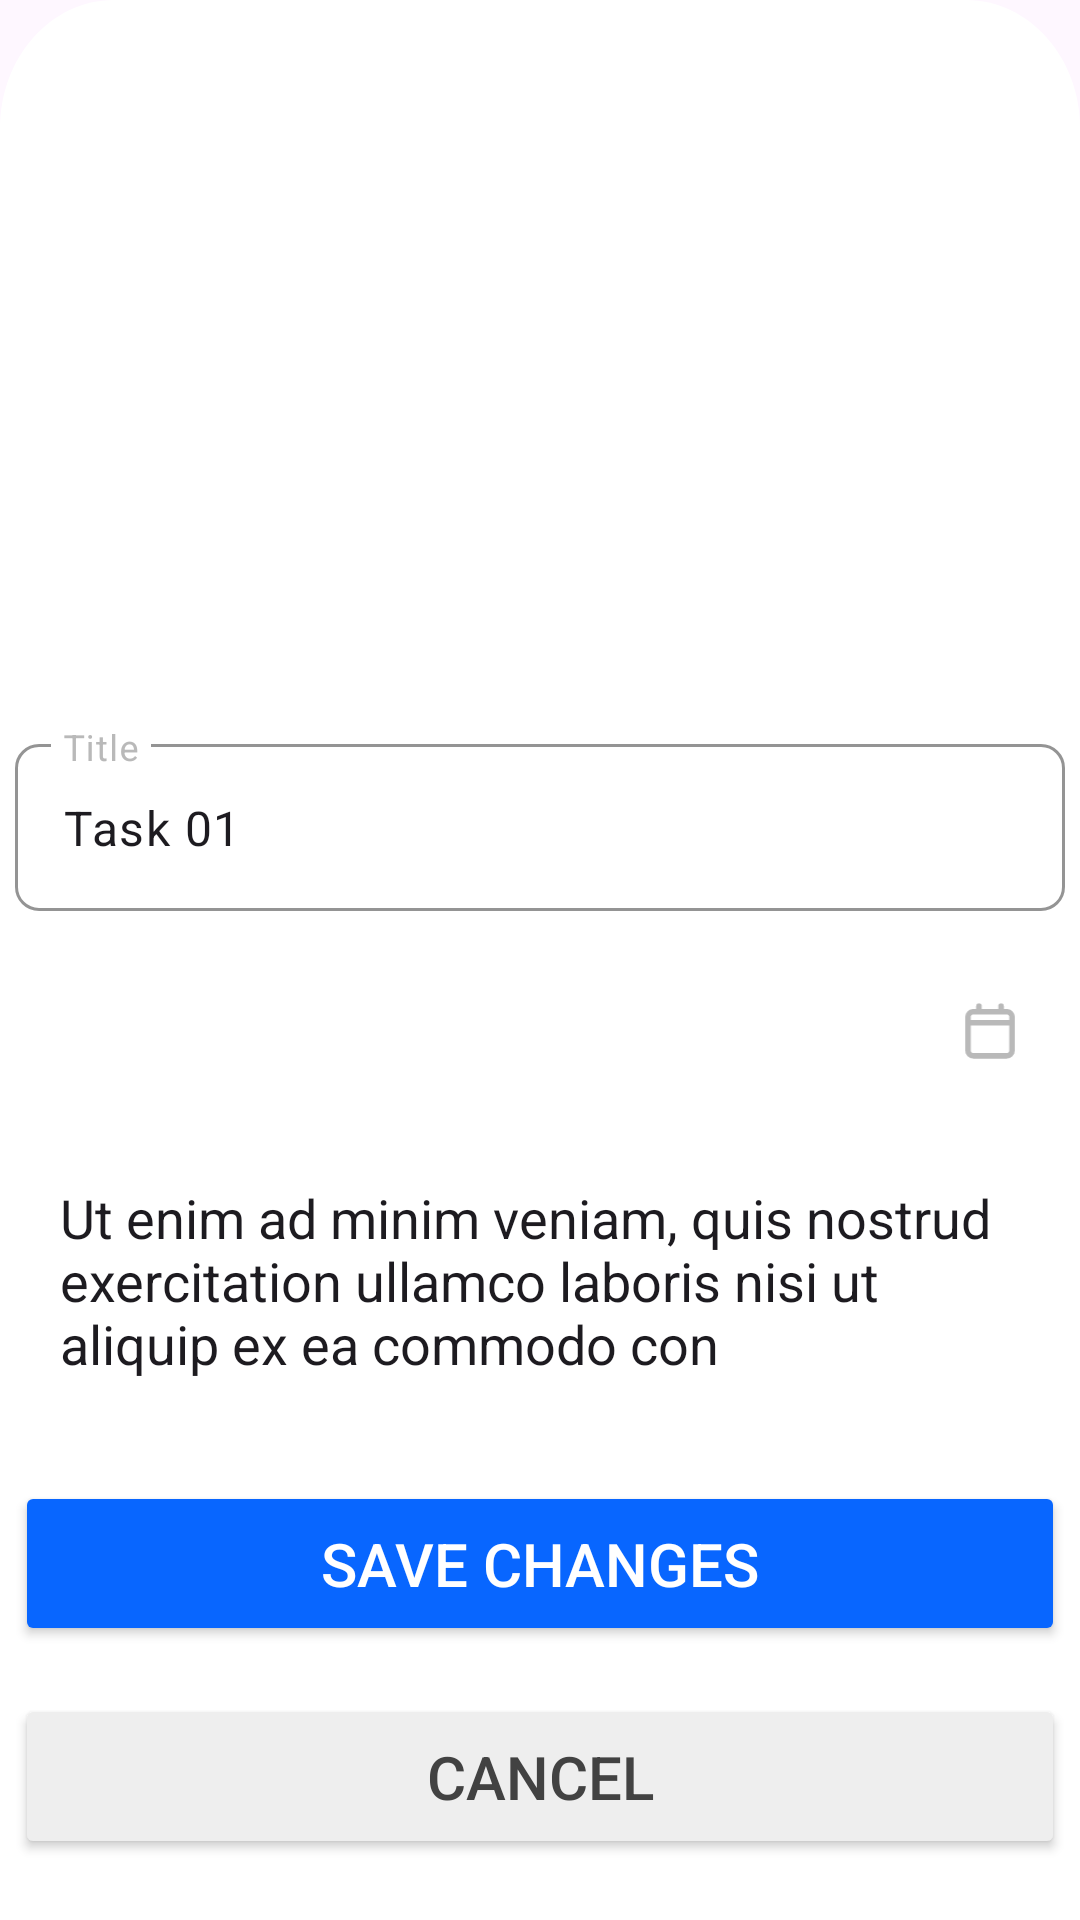

Icon click points for this 1080px×1920px phone screenshot, format (x,y):
calender: (990,1031)
